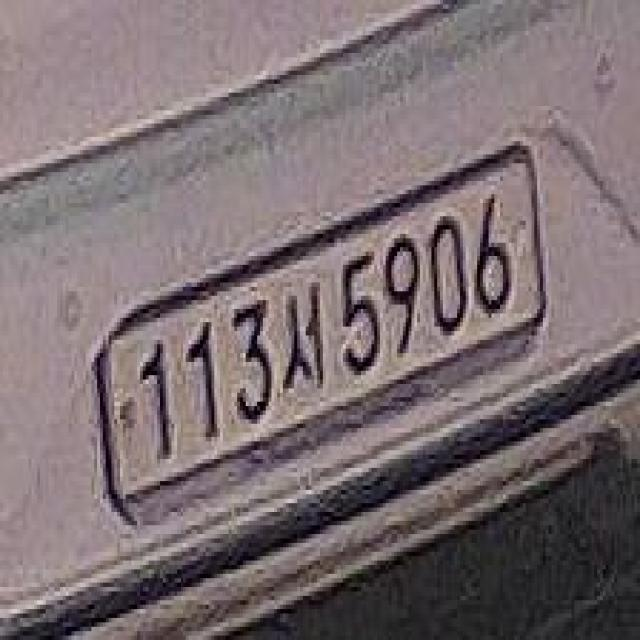illegal_plate: (91, 152, 547, 519)
